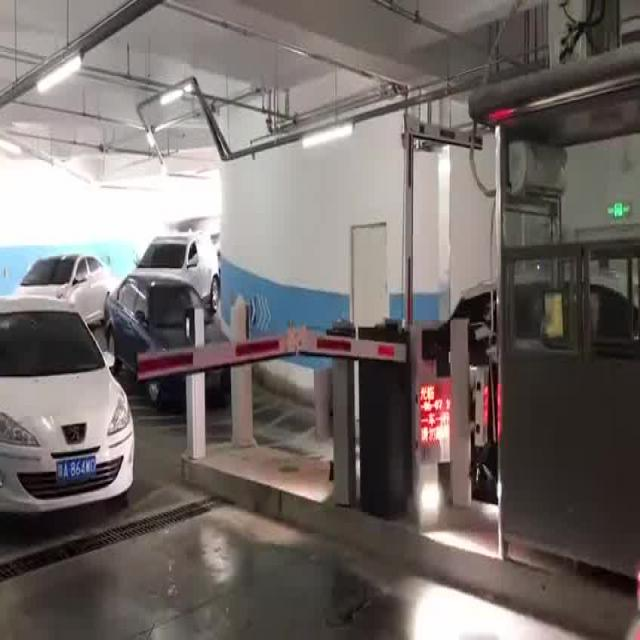CarIn: (1, 261, 142, 524), (94, 264, 261, 403), (123, 209, 232, 300)
GateClosed: (119, 308, 412, 381)
GateOpened: (396, 88, 498, 352)
